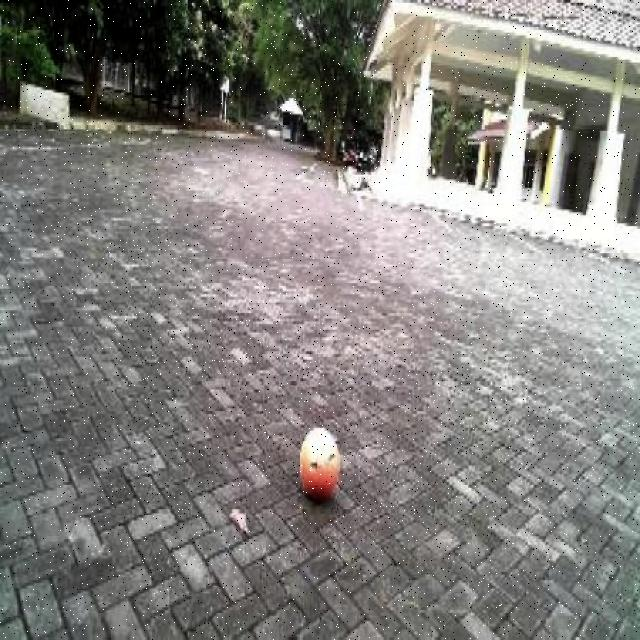buoy: (294, 414, 344, 509)
